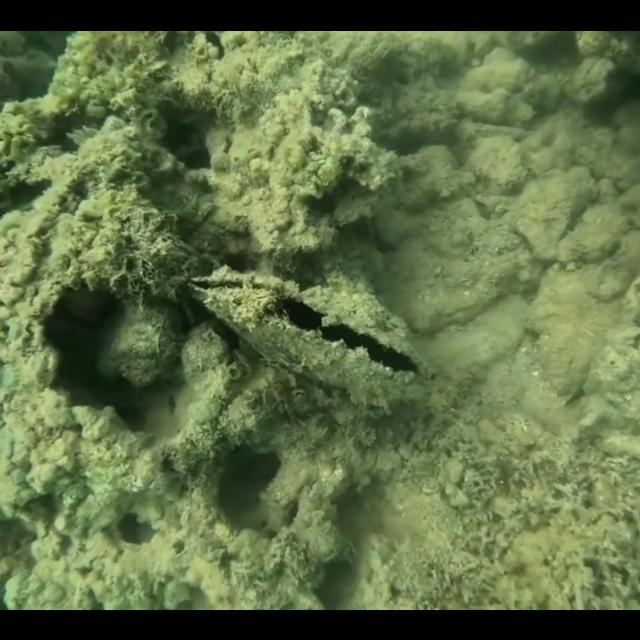Oyster-Open: (186, 262, 428, 408)
